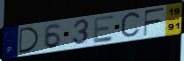3: (71, 18, 91, 47)
6: (43, 23, 63, 50)
C: (120, 10, 143, 41)
D: (18, 26, 41, 55)
E: (93, 14, 116, 45)
F: (143, 6, 166, 38)
